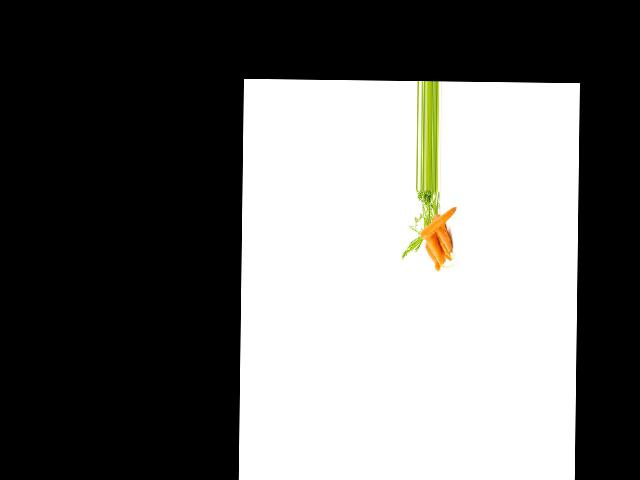carrot: (432, 212, 451, 258)
